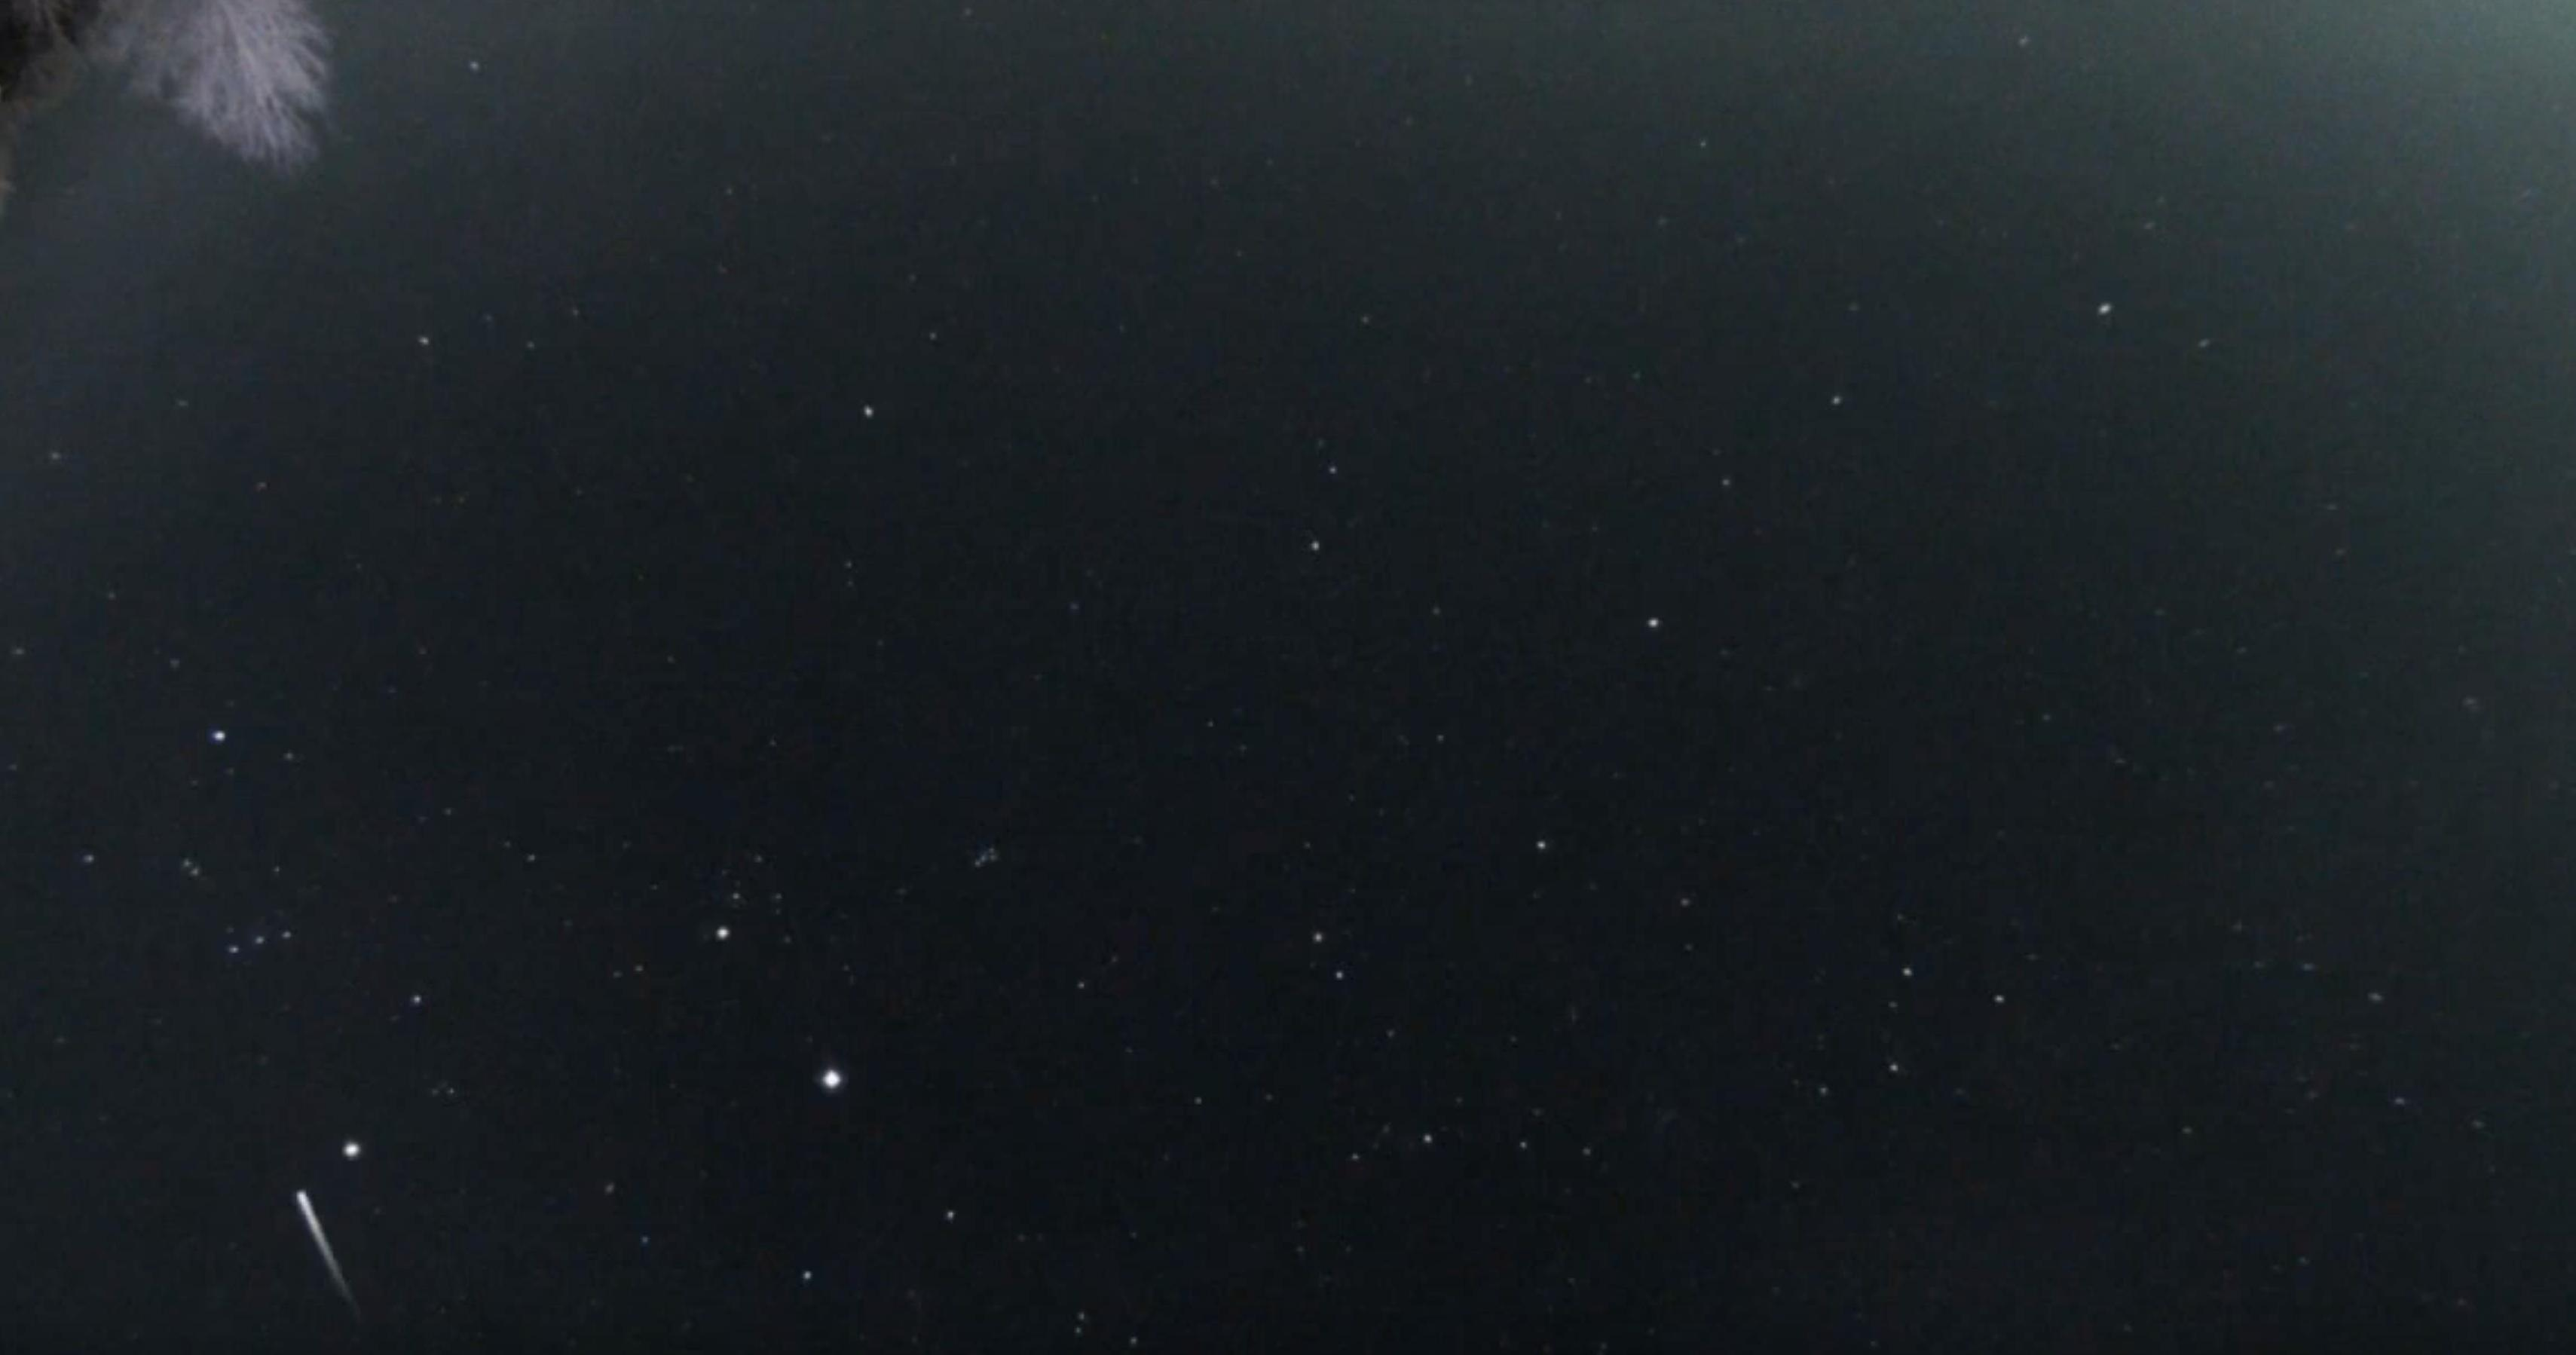meteorite: (254, 1140, 392, 1353)
